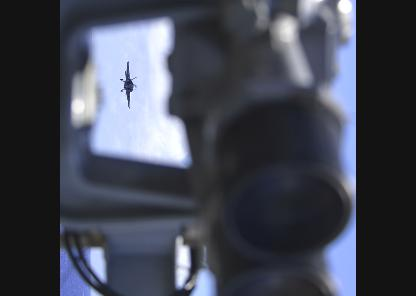F15: (118, 60, 138, 108)
